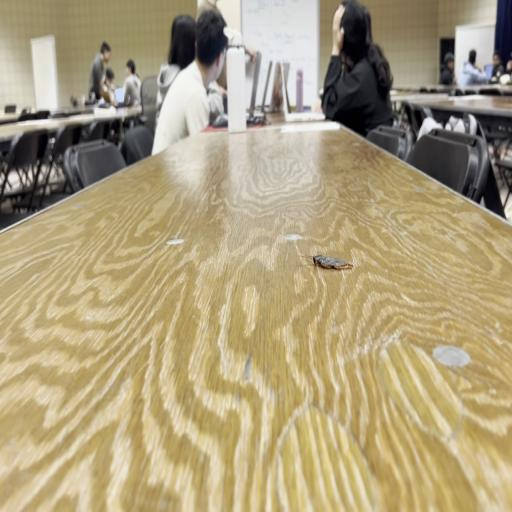cockroach: (299, 254, 355, 272)
